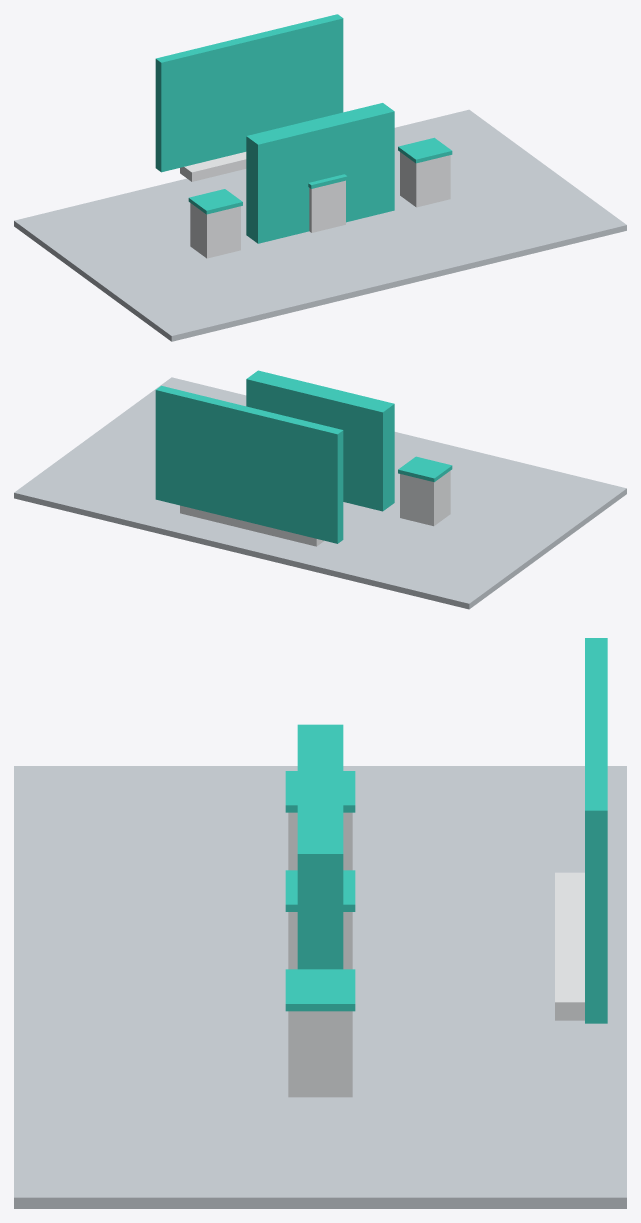
3 renders of one model, top to bottom at view 1: azimuth 30°, elevation 25°; view 2: azimuth 150°, elevation 25°; view 3: azimuth 270°, elevation 25°, orthographic. The views are drawn at different scales.
Parts seen in each view (by area): view 1: Exhibition Booth Concept; view 2: Exhibition Booth Concept; view 3: Exhibition Booth Concept.
Boxes of the visible parts, <box> form: Exhibition Booth Concept: <box>14,14,626,341</box>; Exhibition Booth Concept: <box>14,370,626,609</box>; Exhibition Booth Concept: <box>14,638,626,1208</box>.
Size of the model in its own units: 10 by 2.9 by 6.
